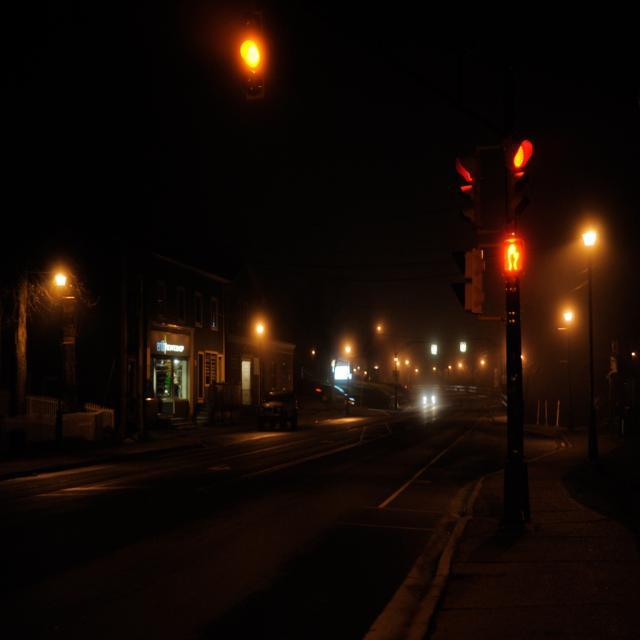traffic light: (453, 154, 483, 225), (506, 138, 533, 216)
